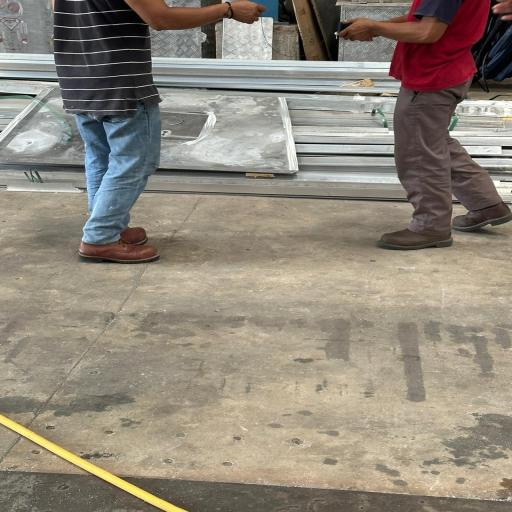safety_shoe: (371, 225, 460, 254), (79, 238, 165, 267), (443, 201, 512, 236), (112, 219, 162, 246)
